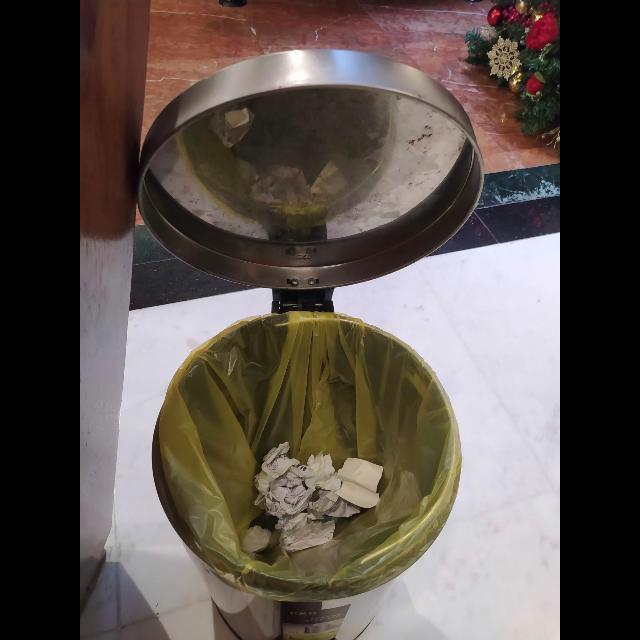paper: (335, 458, 384, 508), (253, 469, 305, 514), (278, 513, 335, 554), (291, 450, 341, 491), (265, 481, 314, 521), (307, 490, 361, 520), (261, 442, 300, 478), (242, 525, 272, 556)
